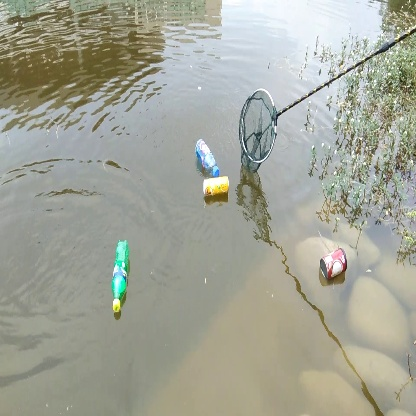bottle: (110, 237, 132, 316), (319, 246, 351, 283), (193, 137, 220, 176), (198, 175, 235, 200)
